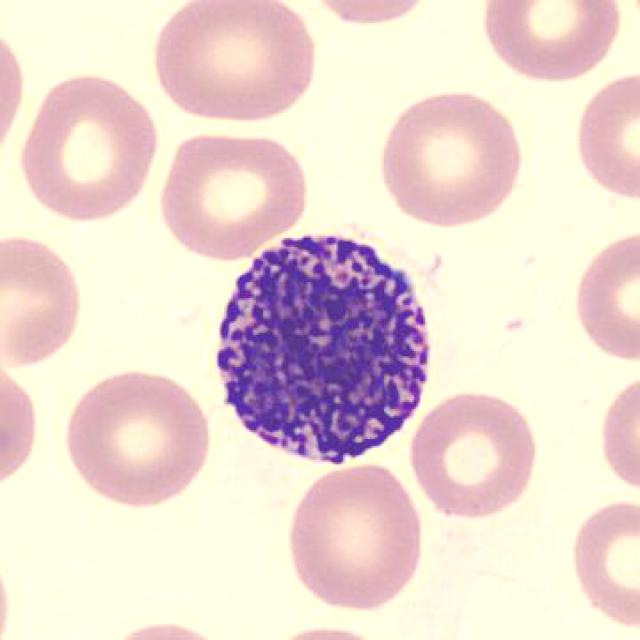RBC: (279, 455, 430, 619), (57, 362, 217, 512), (14, 67, 164, 226), (372, 81, 528, 231), (146, 0, 322, 129), (153, 127, 315, 263), (404, 386, 544, 522), (474, 1, 626, 84), (0, 229, 87, 372), (565, 492, 640, 633), (569, 226, 638, 366), (571, 67, 638, 206), (596, 370, 638, 501), (300, 0, 434, 28), (96, 617, 238, 640), (258, 622, 400, 640)
